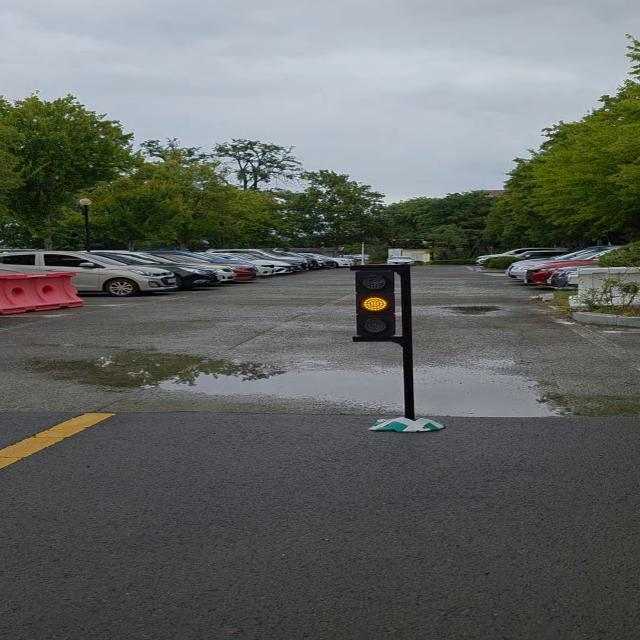yellow: (344, 267, 412, 341)
